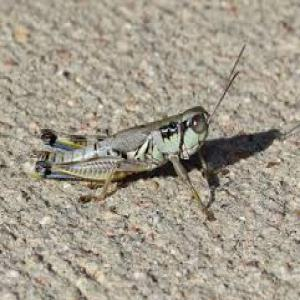locust: (41, 80, 239, 205)
